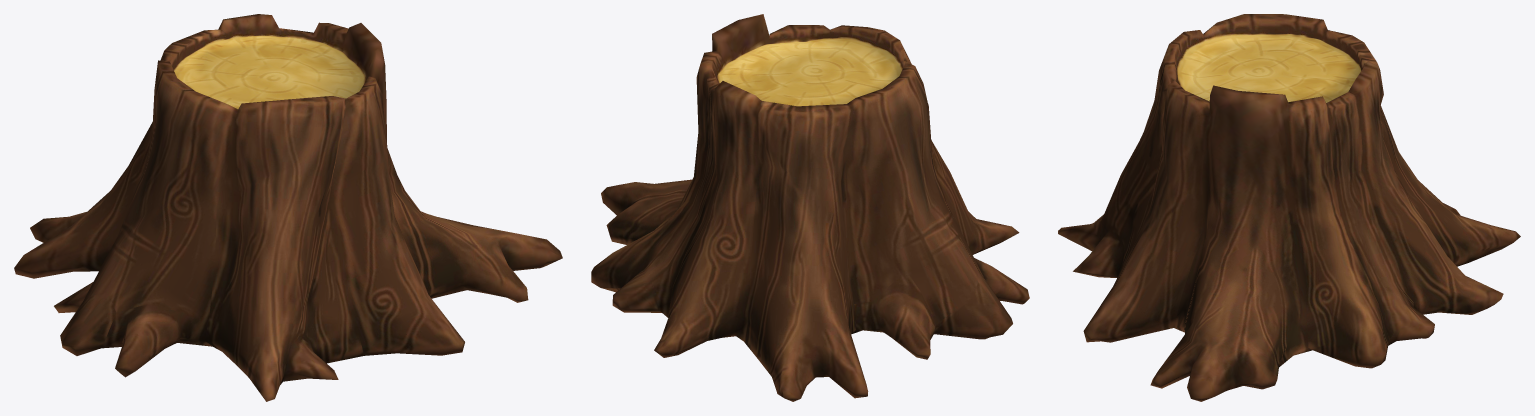
File: TreeStump.glb
3 views of the same model, side by side, from view 1: azimuth 30°, elevation 25°; view 2: azimuth 150°, elevation 25°; view 3: azimuth 270°, elevation 25° (orthographic). The views are drawn at different scales.
Visible parts, largest first — view 1: Object_2; view 2: Object_2; view 3: Object_2.
Boxes of the visible parts, box(x1,y1,x2,y2) form: Object_2: box(14, 14, 562, 401); Object_2: box(591, 14, 1029, 401); Object_2: box(1058, 14, 1520, 401).
Bounding box in the file's own units: 2 × 1.07 × 1.78.
1 material, 1 textured.
